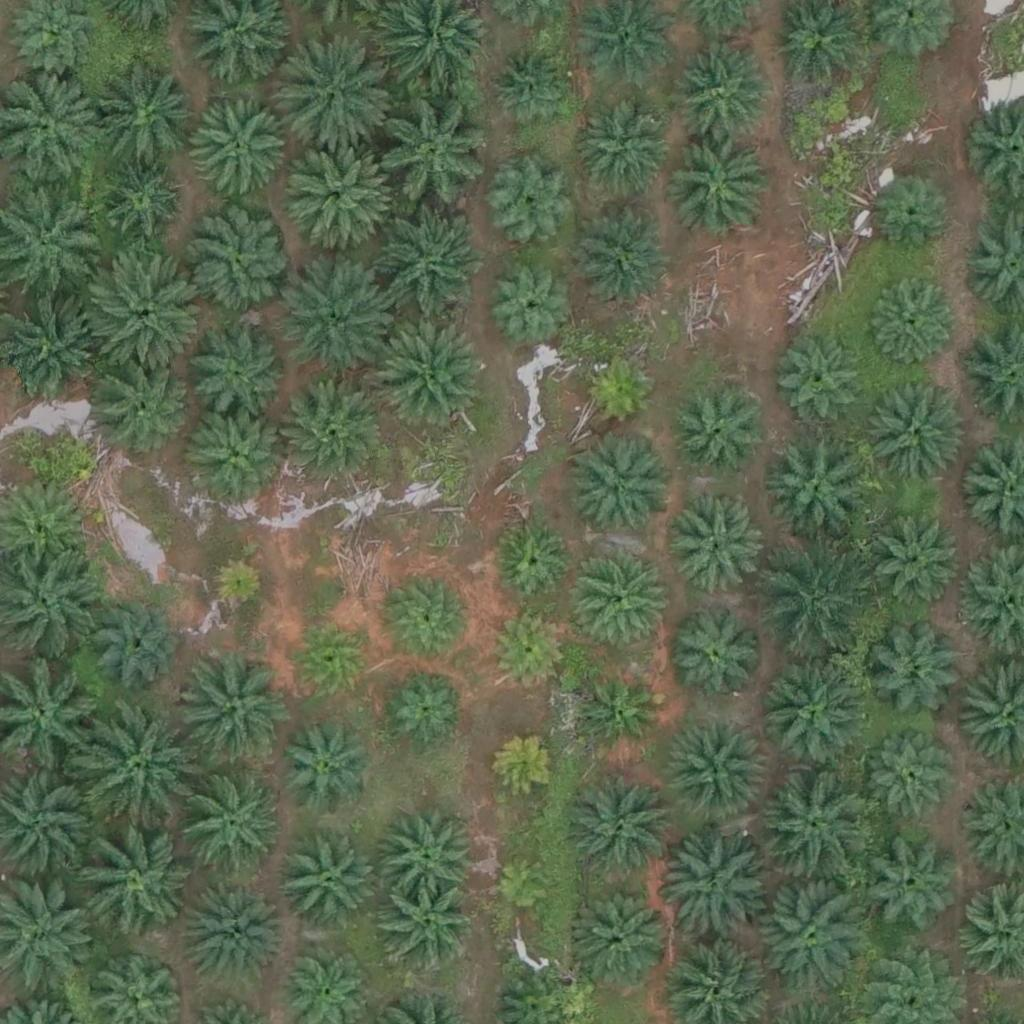Kelapa_Sawit: (757, 883, 870, 997), (564, 767, 677, 881), (282, 43, 395, 157), (760, 765, 873, 878), (662, 833, 775, 946), (758, 429, 871, 542), (759, 552, 872, 665), (369, 100, 482, 213), (80, 715, 193, 828), (368, 215, 480, 329), (372, 319, 484, 433), (274, 376, 386, 490), (76, 824, 188, 937), (282, 265, 394, 378), (282, 138, 394, 251), (89, 62, 201, 175), (89, 250, 201, 363), (177, 651, 289, 764), (663, 720, 763, 821), (577, 884, 677, 985), (377, 804, 477, 905), (271, 717, 371, 818), (278, 833, 378, 934), (184, 773, 284, 874), (865, 619, 965, 720), (672, 46, 772, 147), (668, 138, 768, 239), (669, 378, 769, 479), (669, 488, 769, 589), (662, 611, 762, 712), (573, 94, 673, 195), (574, 203, 674, 304), (567, 440, 667, 541), (566, 548, 666, 649), (188, 100, 288, 201), (188, 212, 288, 313), (190, 321, 290, 422), (85, 360, 185, 461), (859, 725, 959, 825), (180, 888, 280, 988), (767, 662, 867, 762), (869, 505, 969, 605), (868, 381, 968, 481), (190, 407, 290, 507), (867, 272, 955, 361), (865, 838, 953, 926), (386, 884, 474, 972), (577, 344, 665, 432), (385, 572, 473, 660), (385, 664, 473, 752), (483, 604, 571, 692), (491, 515, 579, 603), (773, 335, 861, 423), (486, 260, 574, 348), (490, 152, 578, 240), (93, 158, 181, 246), (98, 597, 186, 685), (286, 614, 373, 702), (869, 170, 956, 258), (576, 664, 663, 752), (488, 44, 575, 132), (488, 726, 563, 802), (203, 555, 266, 618), (493, 855, 555, 918)
